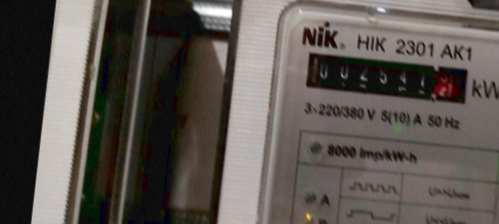0: (314, 57, 329, 79), (335, 57, 350, 79)
1: (414, 67, 427, 88)
2: (355, 60, 369, 81)
4: (395, 64, 409, 86)
5: (374, 61, 388, 85)
6: (435, 81, 447, 97)
screen: (292, 39, 479, 114)
